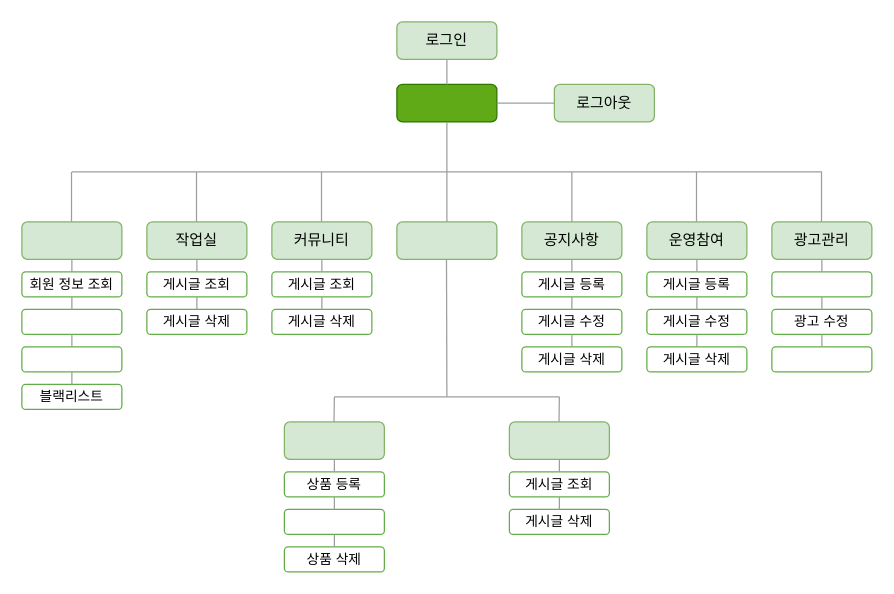
This 894x594 diagram has some shape labels left out. Each missing label, with the box of its shape:
공식 굿즈샵: (283, 421, 384, 459)
광고 등록: (771, 271, 872, 297)
광고 삭제: (771, 346, 872, 372)
마켓: (396, 221, 497, 259)
메인페이지: (396, 83, 497, 122)
뮤즈 마켓: (508, 421, 609, 459)
상품 수정: (283, 508, 384, 534)
회원 정보 삭제: (21, 346, 122, 372)
회원 정보 수정: (21, 308, 122, 334)
회원관리: (21, 221, 122, 259)
